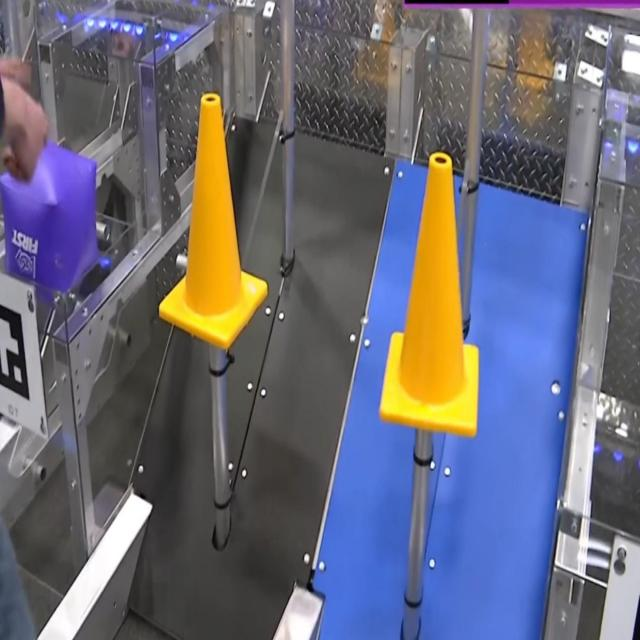frc_cone: (380, 151, 481, 439), (161, 93, 268, 347)
frc_cube: (0, 130, 99, 309)
